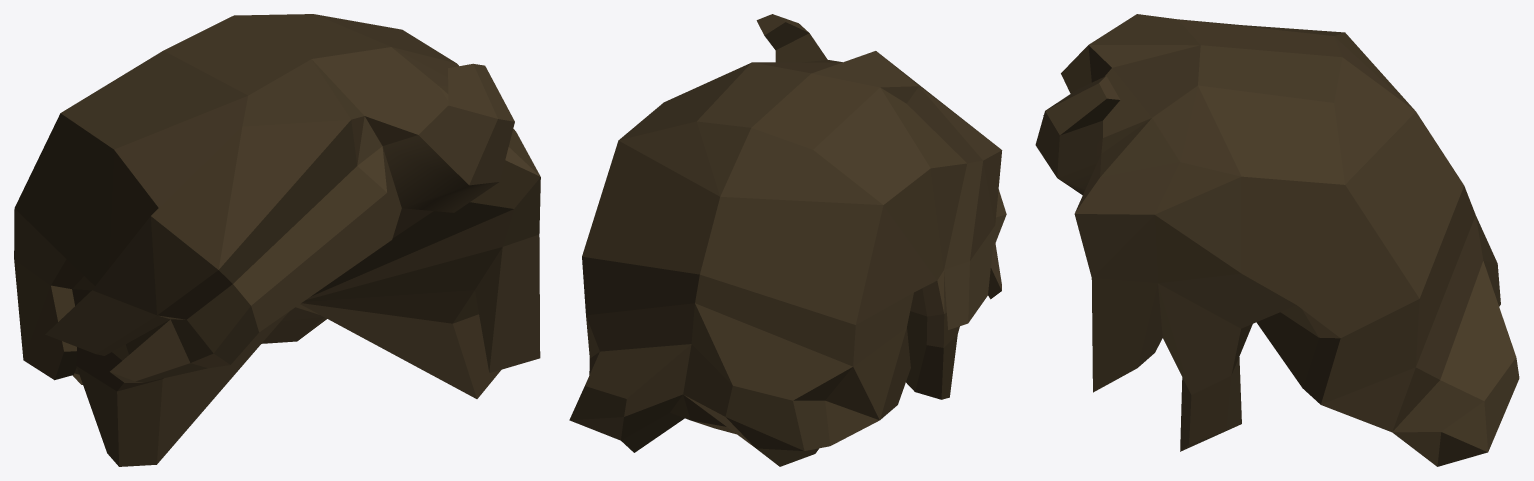
File: Chr_Hair_33_Static.fbx
3 renders of one model, left to right at view 1: azimuth 30°, elevation 25°; view 2: azimuth 150°, elevation 25°; view 3: azimuth 270°, elevation 25°, orthographic. The views are drawn at different scales.
Parts seen in each view (by area): view 1: Chr_Hair_33_Static; view 2: Chr_Hair_33_Static; view 3: Chr_Hair_33_Static.
Boxes of the visible parts, <box> form: Chr_Hair_33_Static: <box>14,14,540,466</box>; Chr_Hair_33_Static: <box>569,14,1006,466</box>; Chr_Hair_33_Static: <box>1035,14,1519,466</box>.
Bounding box in the file's own units: 0.2837 × 0.2589 × 0.2967.
